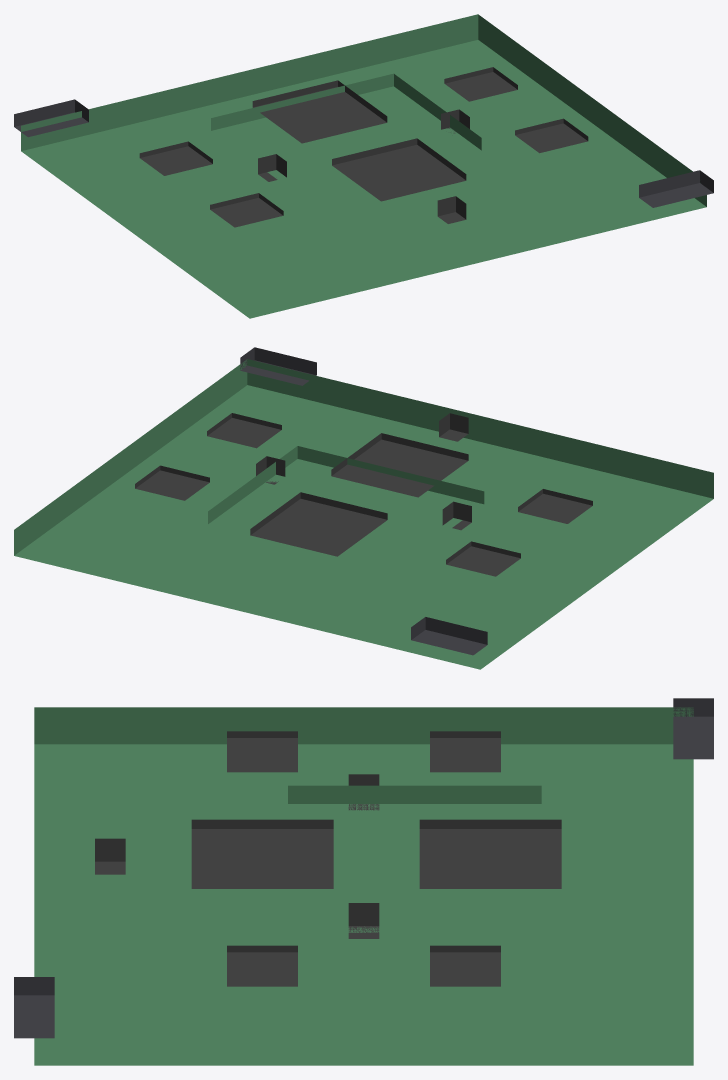
The model's file is mainboard.gltf.
The picture shows the model from 3 angles, top to bottom: view 1: azimuth 30°, elevation 25°; view 2: azimuth 150°, elevation 25°; view 3: azimuth 270°, elevation 25°; orthographic projection. The views are drawn at different scales.
Visible parts, largest first — view 1: mainboard; view 2: mainboard; view 3: mainboard.
Part boxes in pixels (x1,y1,x2,y2): mainboard: [14, 14, 713, 318]; mainboard: [14, 347, 713, 669]; mainboard: [14, 698, 713, 1065].
Size of the model in its own units: 0.15 by 0.013 by 0.138.
